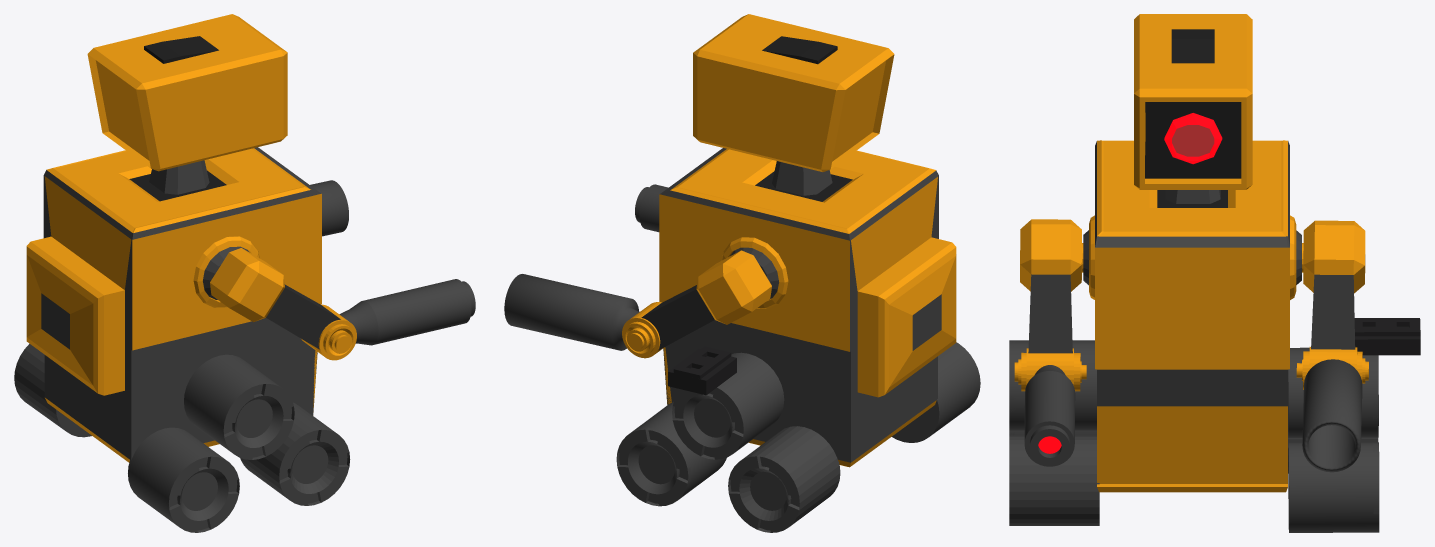
The model's file is Robot1.2.fbx.
The picture shows the model from 3 angles, left to right: view 1: azimuth 30°, elevation 25°; view 2: azimuth 150°, elevation 25°; view 3: azimuth 270°, elevation 25°; orthographic projection. The views are drawn at different scales.
Parts seen in each view (by area): view 1: Body, Head, Cylinder, Cylinder.004, RightShoulder, Cylinder.001, RightHend, Cylinder.003, neck, leftHend; view 2: Body, Head, Cylinder.003, Cylinder.005, LeftShoulder, leftHend, Cylinder.002, Cylinder, track.001, neck, RightHend; view 3: Body, Head, RightShoulder, LeftShoulder, Cylinder.002, Cylinder.001, leftHend, RightHend, Cylinder.004, Cylinder.005, track.001, neck.
Boxes of the visible parts, x1,y1,x2,y2 form: Body: (26,147,321,462); Head: (87,14,287,171); Cylinder: (128,427,239,532); Cylinder.004: (184,354,294,459); RightShoulder: (210,248,356,360); Cylinder.001: (240,402,350,505); RightHend: (339,279,475,345); Cylinder.003: (14,343,91,437); neck: (149,160,209,194); leftHend: (310,180,348,236); Body: (659,148,956,467); Head: (693,14,894,171); Cylinder.003: (728,426,840,532); Cylinder.005: (672,352,784,459); LeftShoulder: (622,250,771,358); leftHend: (504,274,639,350); Cylinder.002: (616,401,726,506); Cylinder: (892,342,980,442); track.001: (668,346,736,395); neck: (772,161,832,195); RightHend: (635,184,668,232); Body: (1082,140,1303,492); Head: (1134,14,1252,189); RightShoulder: (1014,219,1086,391); LeftShoulder: (1296,220,1368,389); Cylinder.002: (1288,442,1379,532); Cylinder.001: (1009,435,1099,525); leftHend: (1302,359,1362,472); RightHend: (1024,365,1075,466); Cylinder.004: (1009,340,1096,430); Cylinder.005: (1288,347,1378,437); track.001: (1354,318,1420,355); neck: (1165,190,1220,203).
Size of the model in its own units: 509 by 576 by 476.
